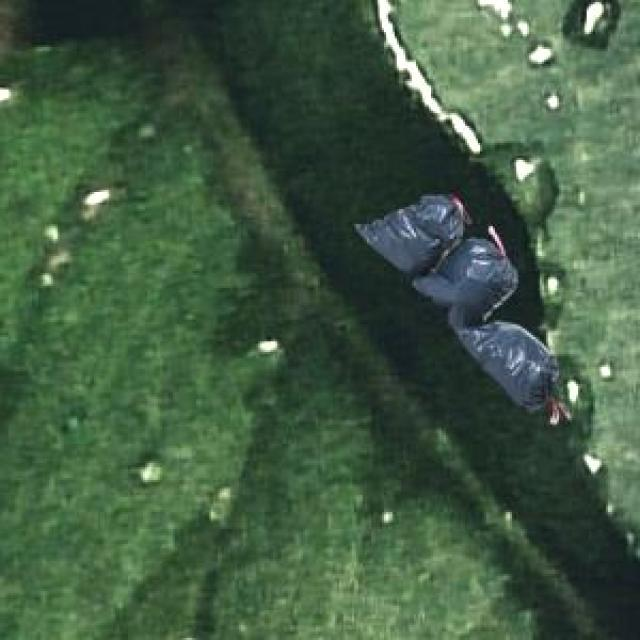Trashbag: (429, 245, 521, 332), (480, 333, 558, 412), (377, 188, 457, 262)
